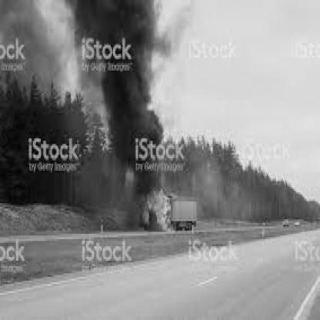Fire: (133, 175, 179, 231)
